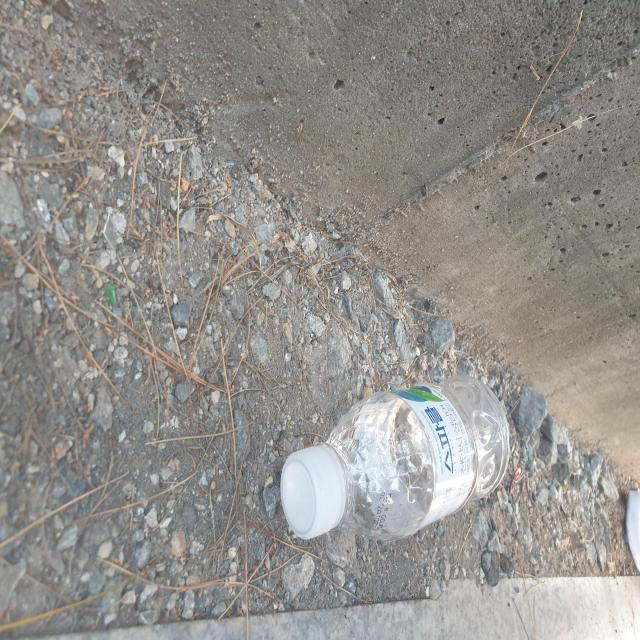plastic: (281, 376, 510, 541)
